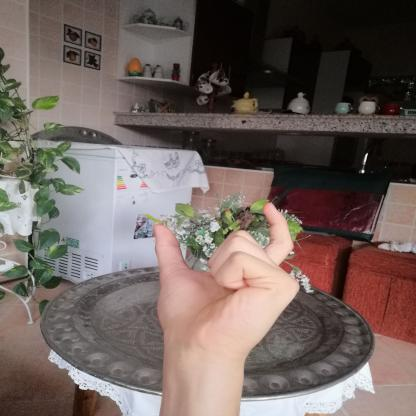NOON: (138, 193, 318, 375)
